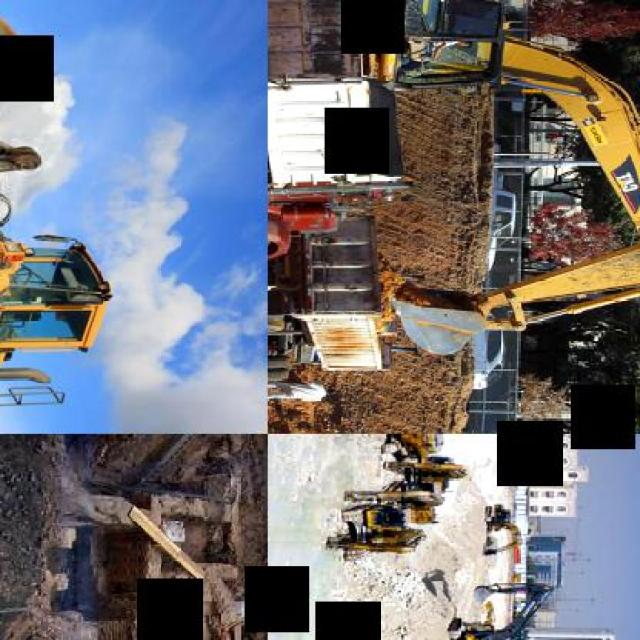buldozerpayloadergrader: (0, 0, 123, 432)
excavator: (342, 0, 638, 360), (446, 583, 556, 639), (323, 505, 423, 561), (342, 482, 449, 526), (385, 454, 472, 494), (350, 434, 452, 458), (480, 504, 526, 553)
